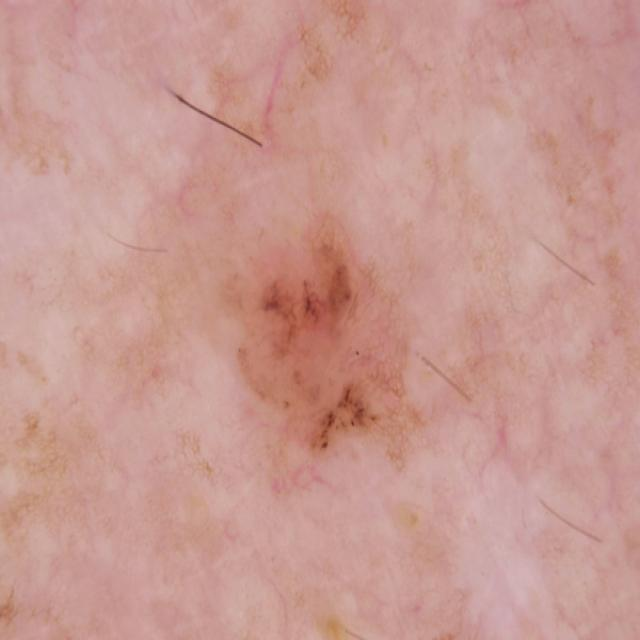Skin-Cancer Basal cell carcinoma: (52, 84, 560, 610)
